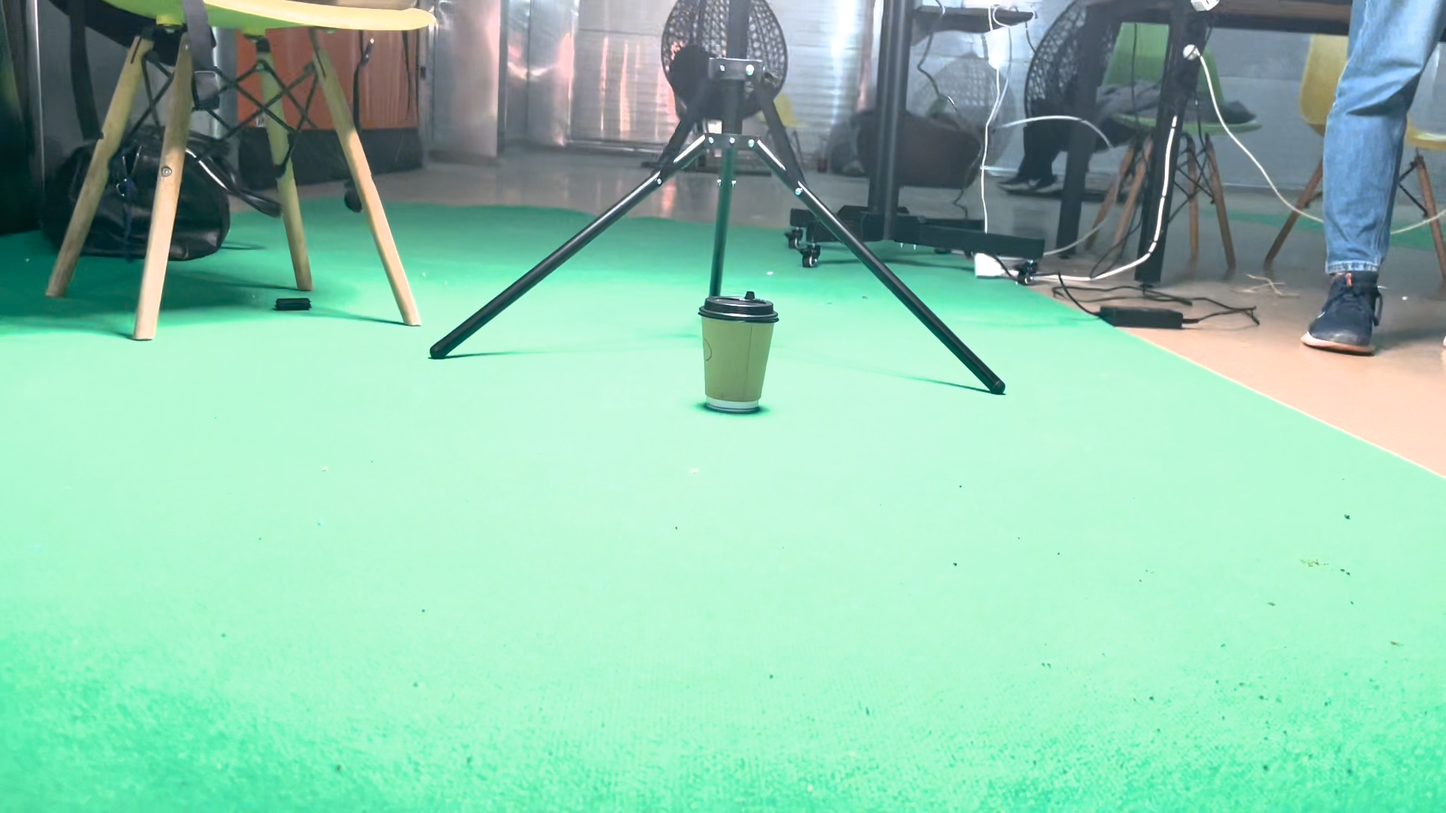cup: (695, 466, 805, 616)
